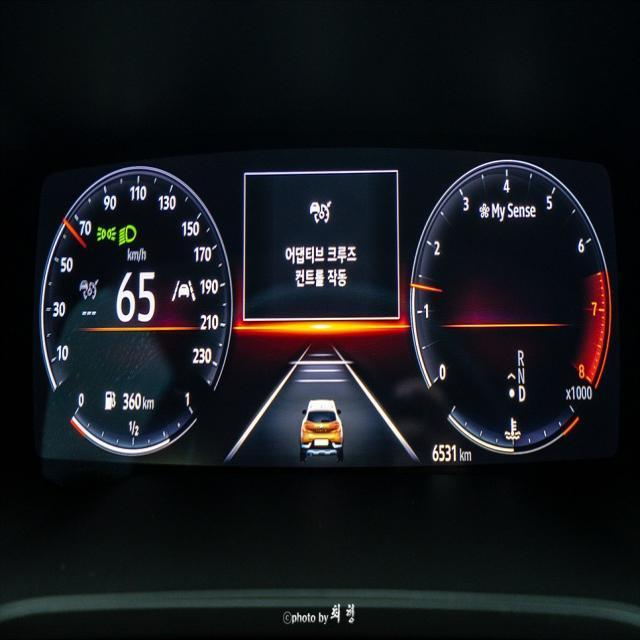Low beam: (118, 222, 136, 246)
SideLamp: (96, 224, 116, 242)
